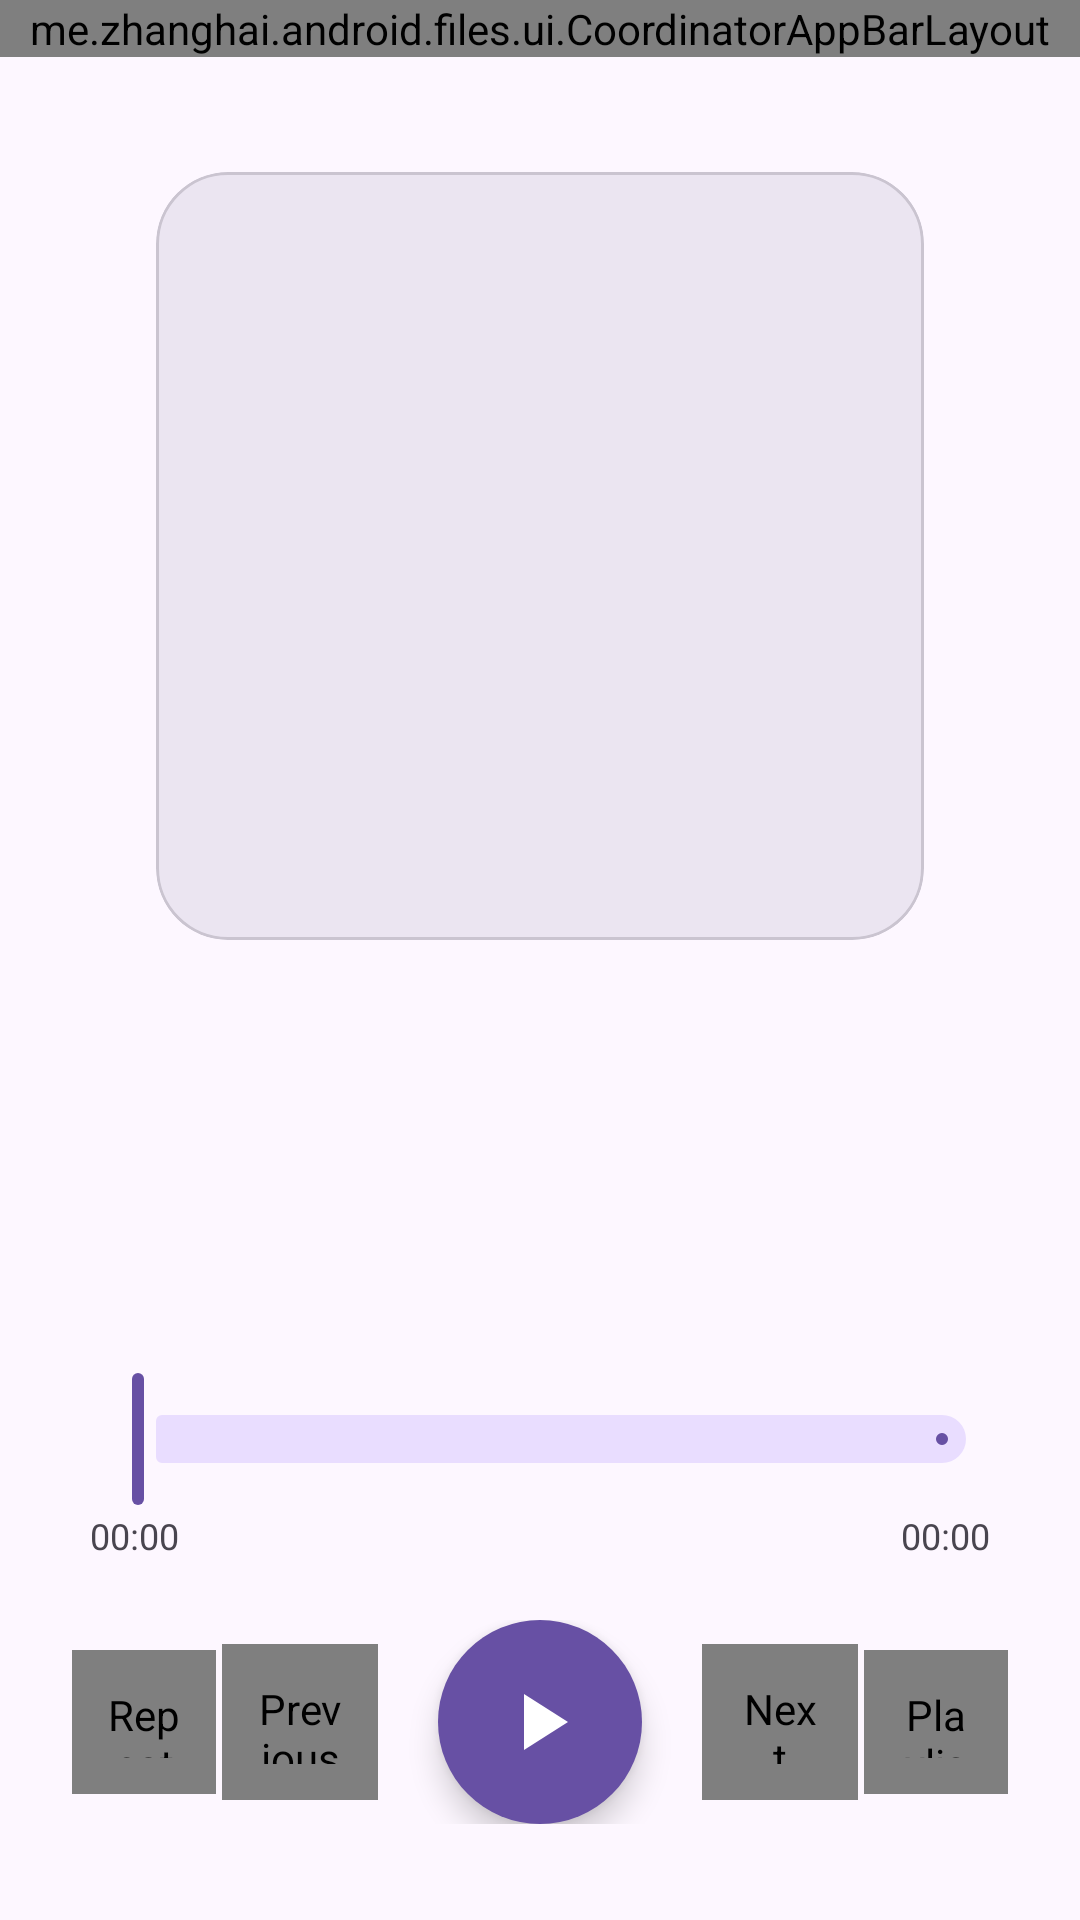

Named icons in this screenshot (1080w x 1920h) and their centers, (x,y):
Play / Pause: (540,1722)
